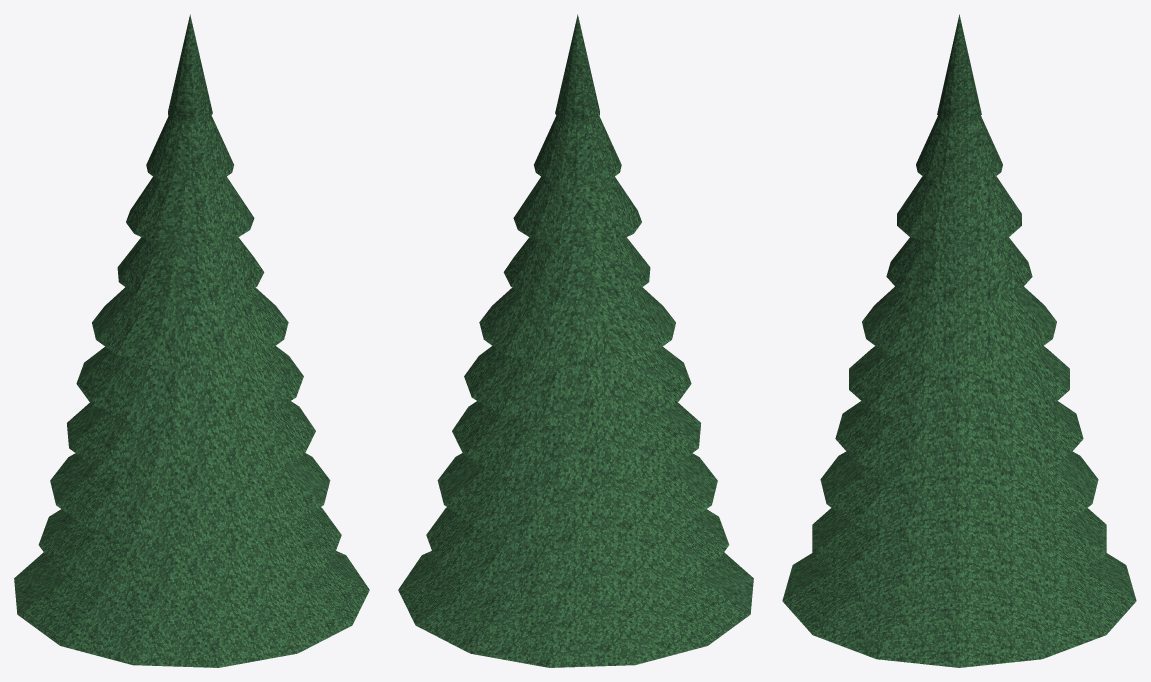
3 renders of one model, left to right at view 1: azimuth 30°, elevation 25°; view 2: azimuth 150°, elevation 25°; view 3: azimuth 270°, elevation 25°, orthographic.
Parts seen in each view (by area): view 1: canopyDiameter=4;clearTrunkHeight=0.8;foliageMaterial=foliag; view 2: canopyDiameter=4;clearTrunkHeight=0.8;foliageMaterial=foliag; view 3: canopyDiameter=4;clearTrunkHeight=0.8;foliageMaterial=foliag.
Part boxes in pixels (<box>): canopyDiameter=4;clearTrunkHeight=0.8;foliageMaterial=foliag: <box>14,14,369,667</box>; canopyDiameter=4;clearTrunkHeight=0.8;foliageMaterial=foliag: <box>398,14,753,667</box>; canopyDiameter=4;clearTrunkHeight=0.8;foliageMaterial=foliag: <box>782,14,1136,667</box>.
Size of the model in its own units: 4 by 4 by 8.
2 materials, 2 textured.
